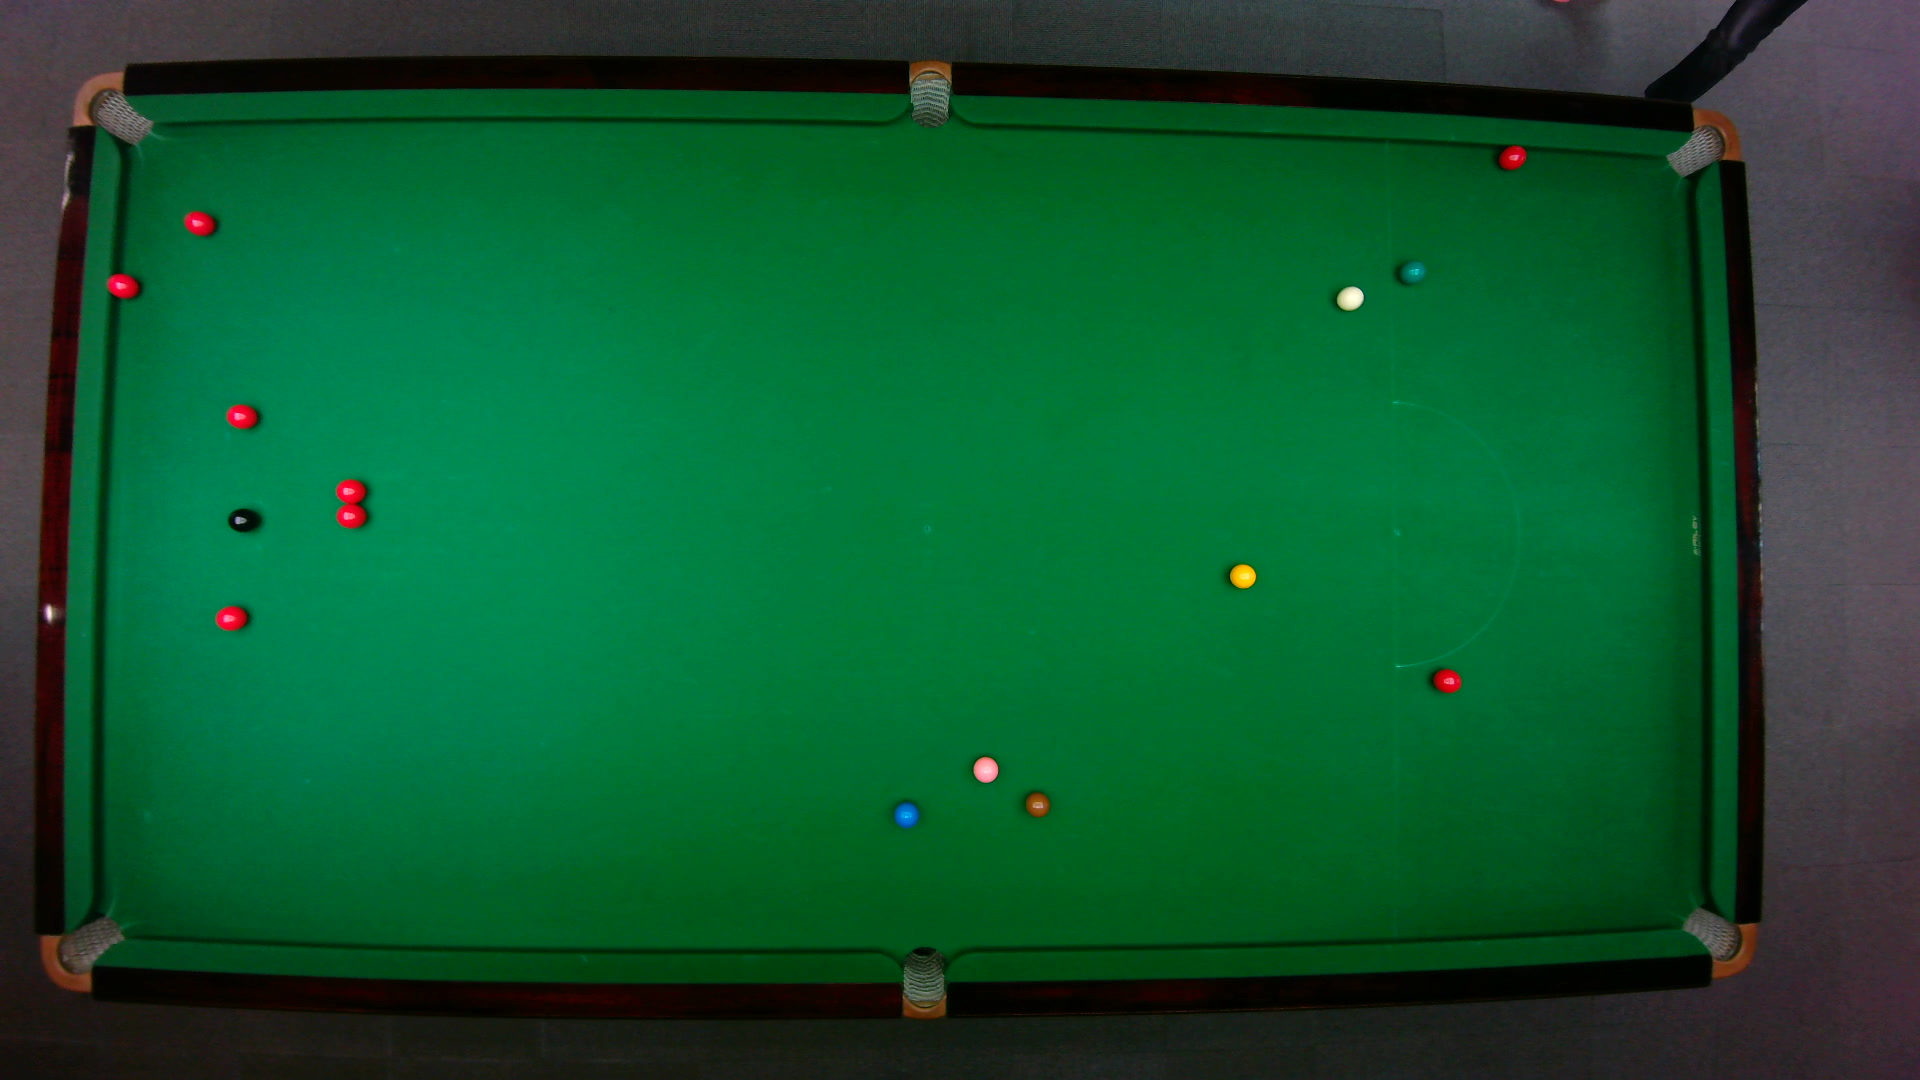bag: (37, 913, 125, 992), (70, 70, 153, 145), (1677, 905, 1756, 978), (1662, 107, 1741, 178), (901, 944, 945, 1021), (909, 57, 949, 128)
black: (225, 506, 258, 531)
blue: (891, 800, 918, 828)
brown: (1023, 791, 1050, 818)
green: (1396, 258, 1425, 284)
pink: (971, 756, 1000, 783)
red: (103, 270, 138, 299), (223, 401, 258, 429), (182, 208, 216, 236), (214, 604, 248, 632), (1429, 666, 1462, 694), (334, 476, 367, 504), (334, 502, 367, 529), (1497, 142, 1527, 170)
white: (1335, 284, 1365, 311)
yellow: (1226, 560, 1257, 588)
zone: (1390, 398, 1520, 669)
